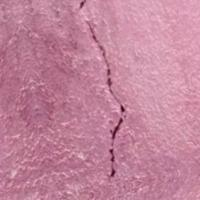crack: (71, 0, 135, 180)
